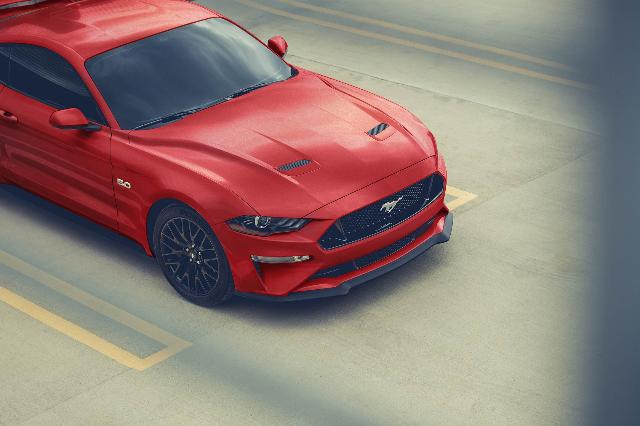ford-mustang: (0, 0, 454, 308)
